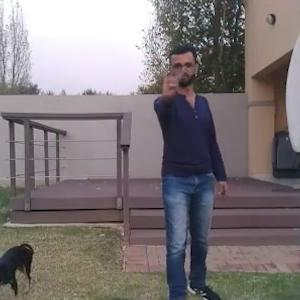takeoff-hand: (155, 61, 181, 95)
